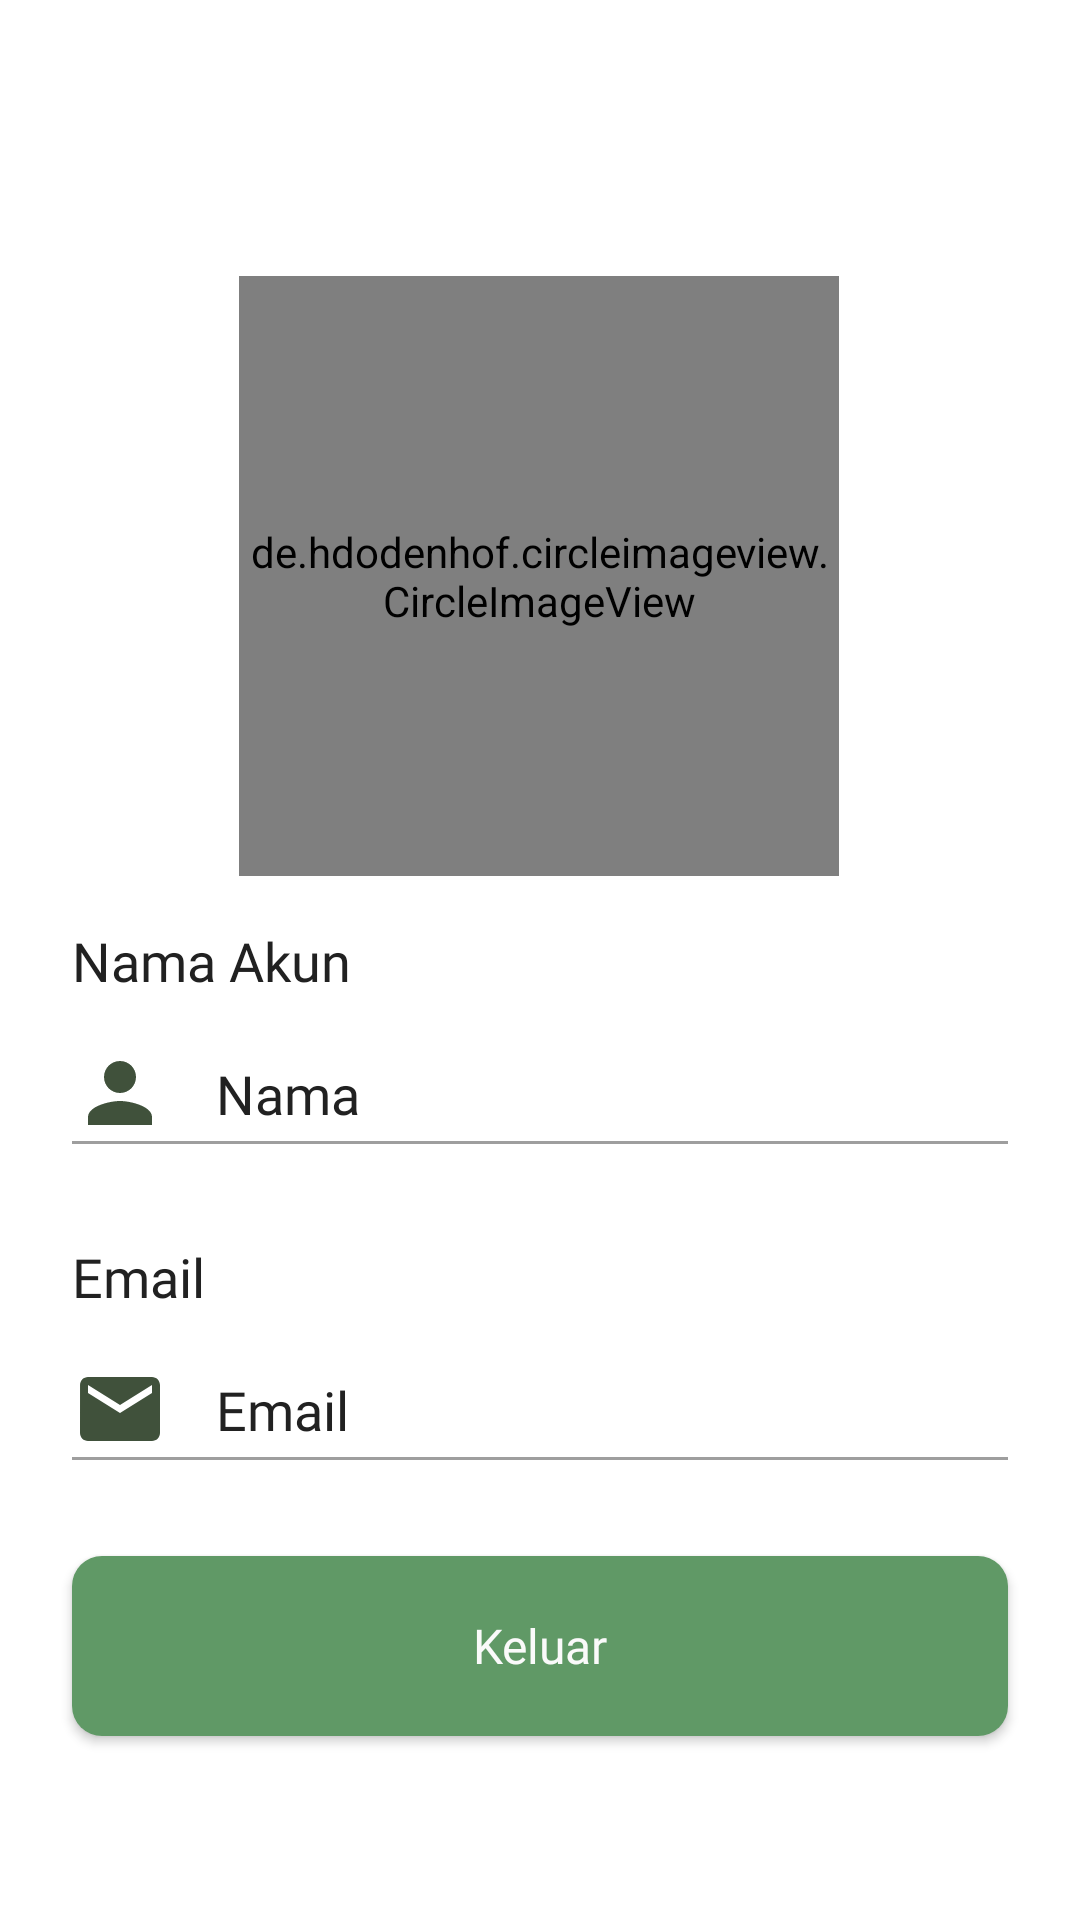

Named icons in this screenshot (1080 × 1920) and their centers, point (x, y):
icon profile: point (120, 1093)
